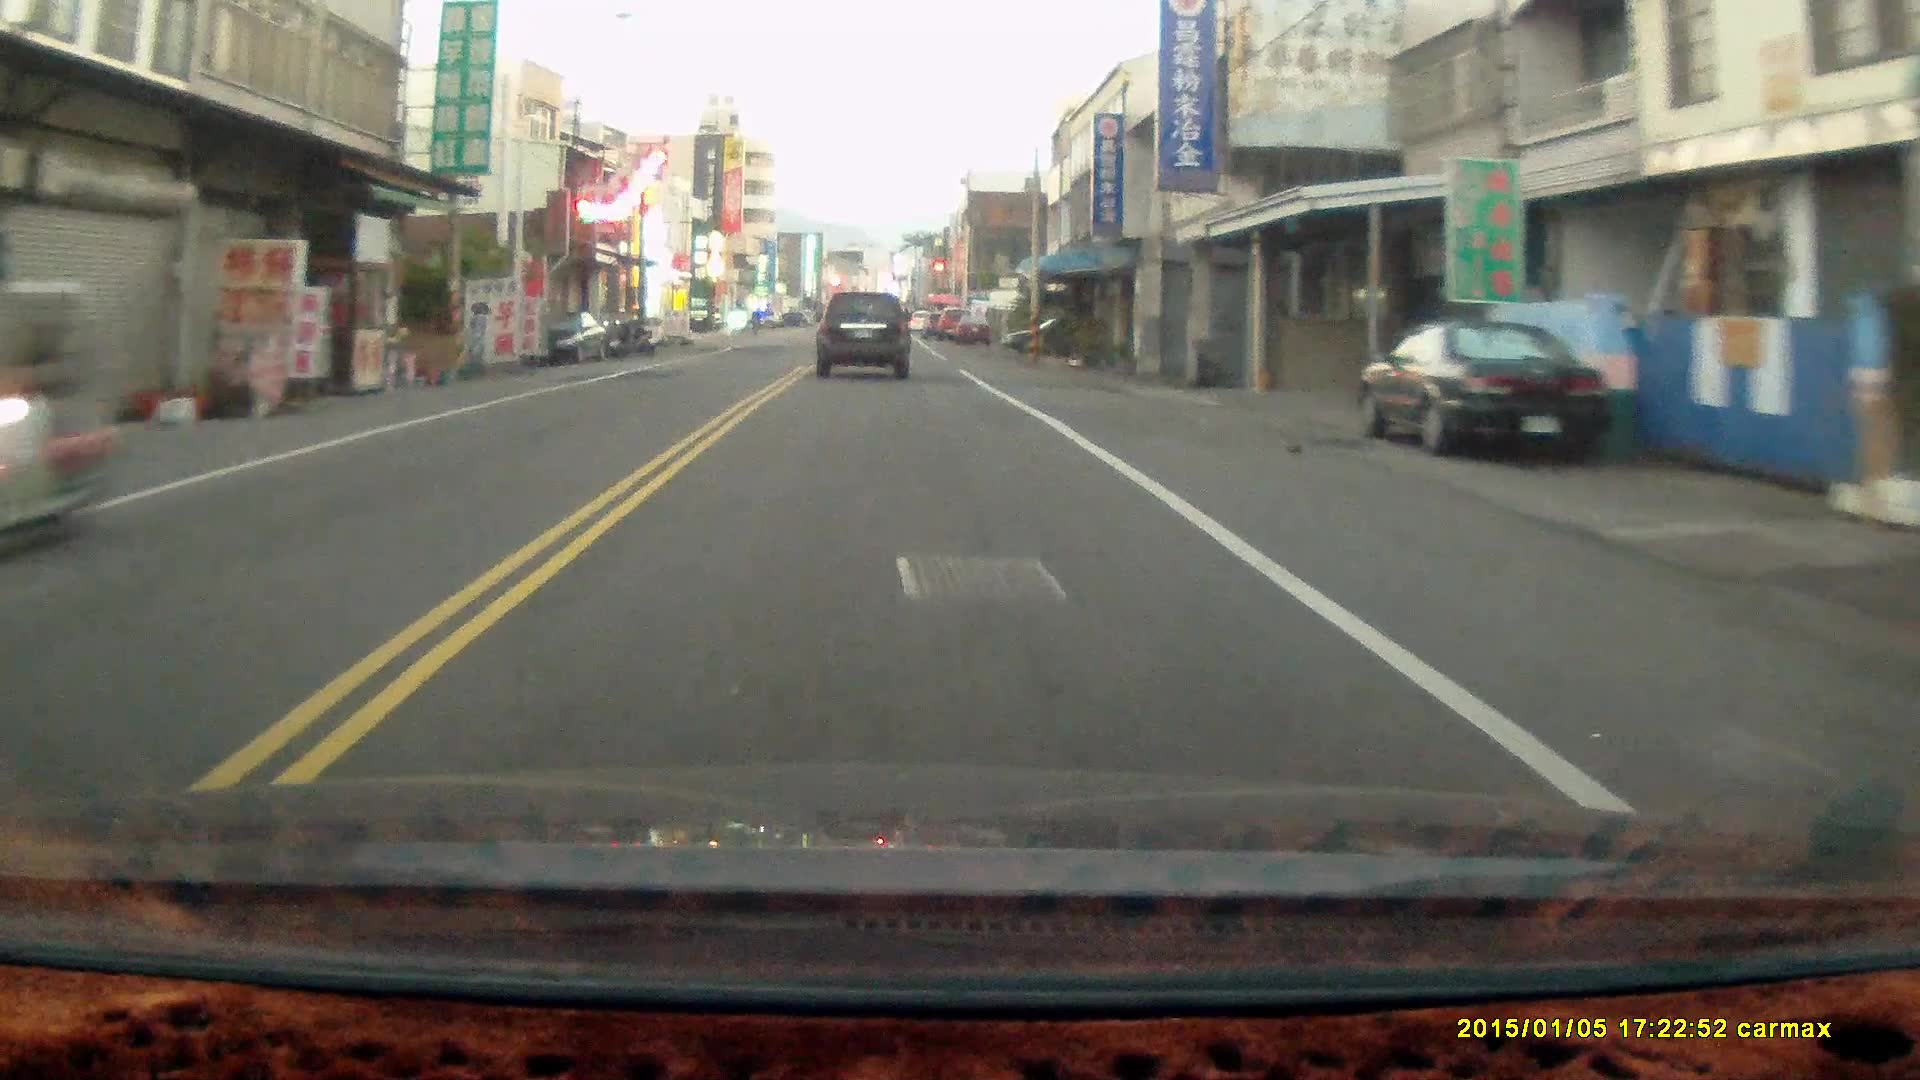rider: (1, 282, 116, 563)
vehicle: (1359, 316, 1617, 465), (815, 290, 912, 381)
